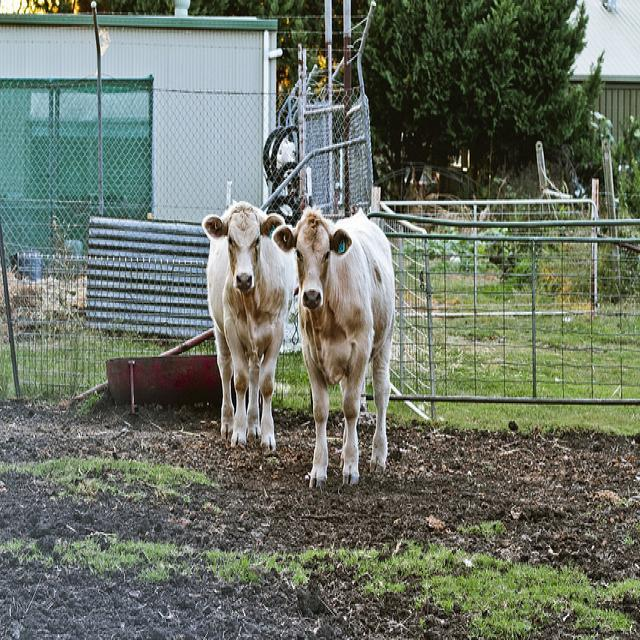cow: (273, 205, 395, 489), (200, 199, 297, 456)
